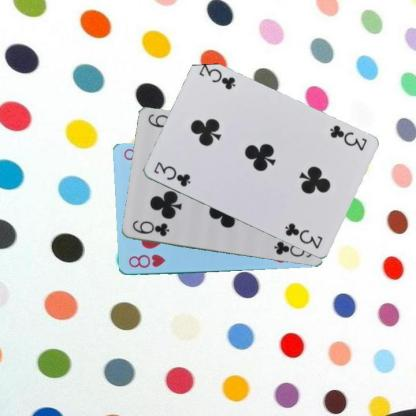3c: (326, 122, 368, 152), (150, 160, 191, 188)
6c: (130, 218, 170, 238)
8h: (126, 251, 166, 270)
